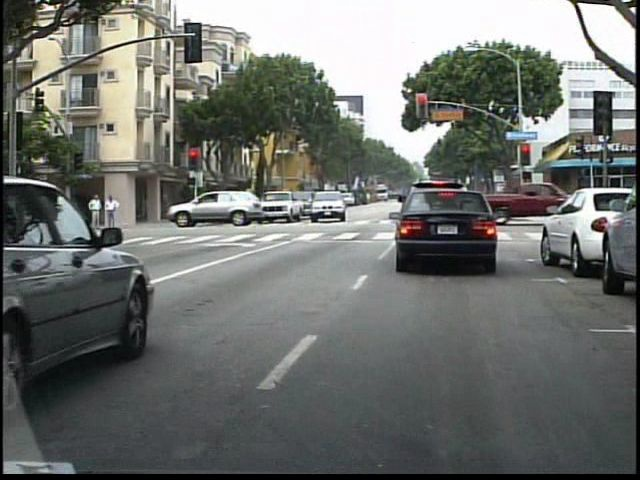person: (83, 190, 100, 234), (100, 192, 116, 232)
